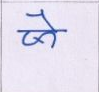au_matra: (40, 10, 58, 46)
